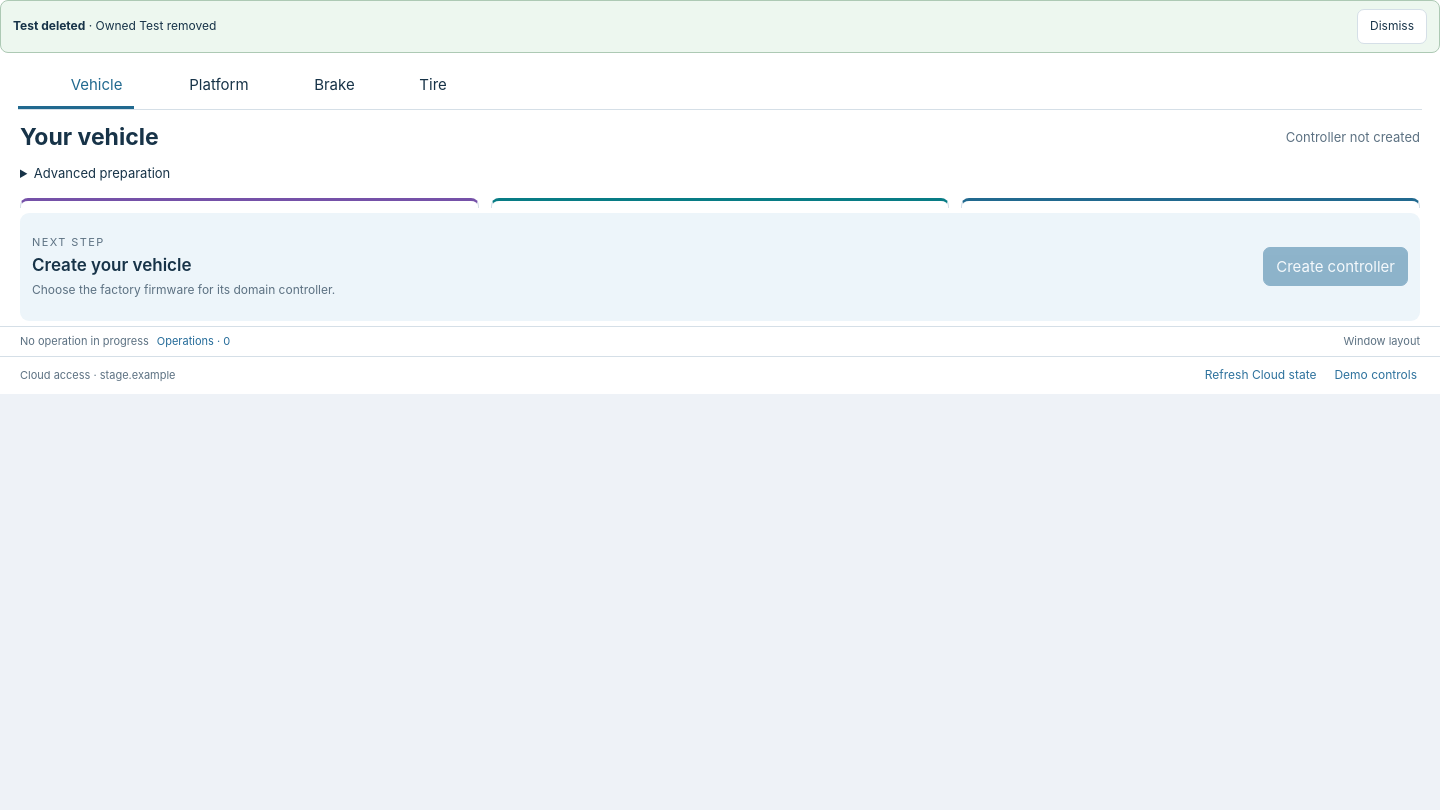
open Trace acknowledges Finish after retirement removes the run ID
Click the button "No operation in progress Operations · 0" at (84, 341), box [20, 332, 1333, 351]
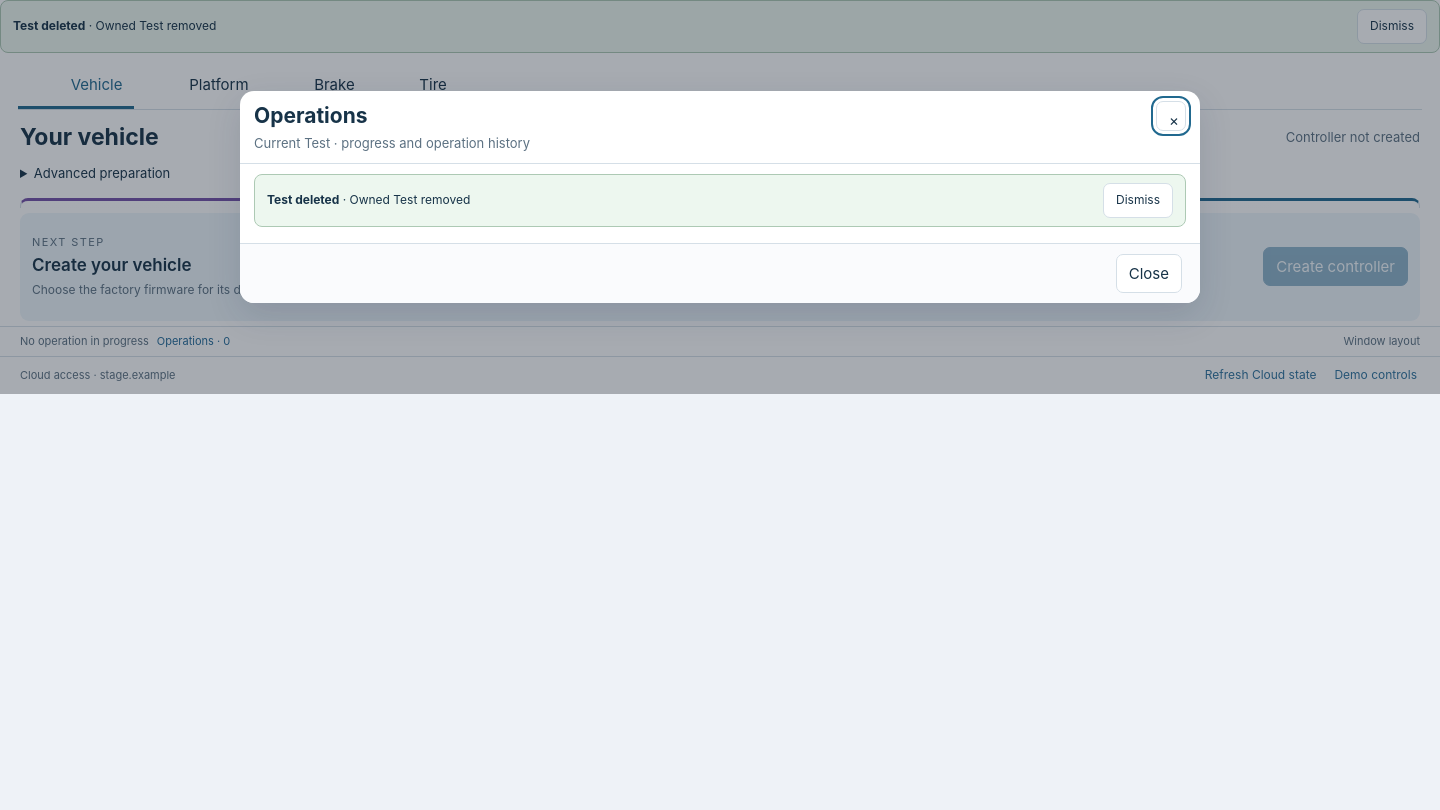
Expected: the dialog does not show "No operations recorded", [240, 91, 1200, 303]
Expected: the dialog shows "Test deleted", [267, 192, 339, 207]
